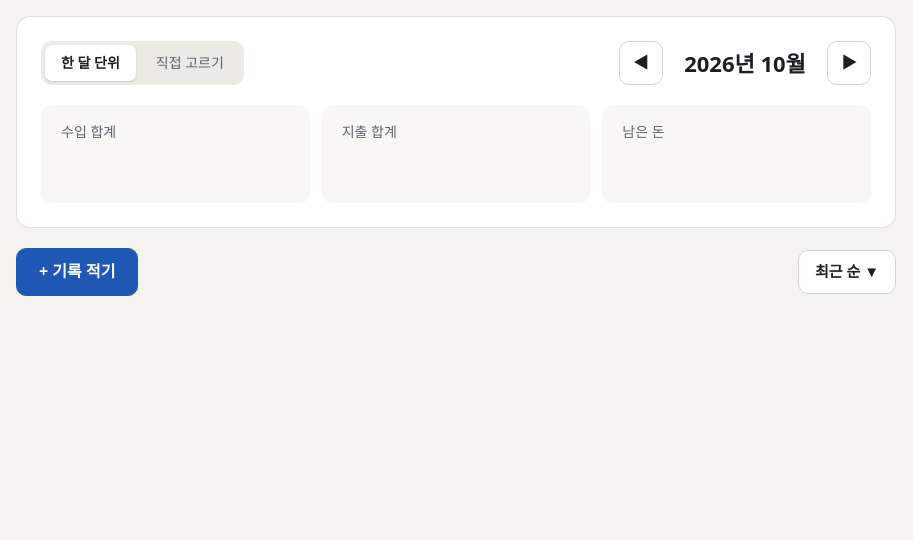
Test: T-414 직접 고르기 › 칸의 처음 값은 보던 기간
The width and height of the screenshot is (913, 540).
Click the button "직접 고르기": (190, 63) [140, 45, 240, 81]
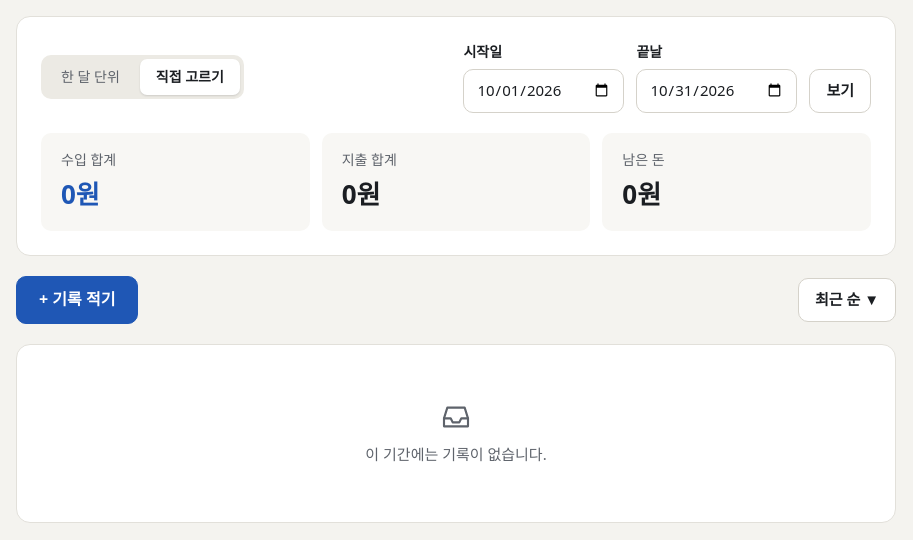
Expected: the date field labelled "시작일" holds "2026-10-01", [463, 69, 624, 113]
Expected: the date field labelled "끝날" holds "2026-10-31", [636, 69, 797, 113]
